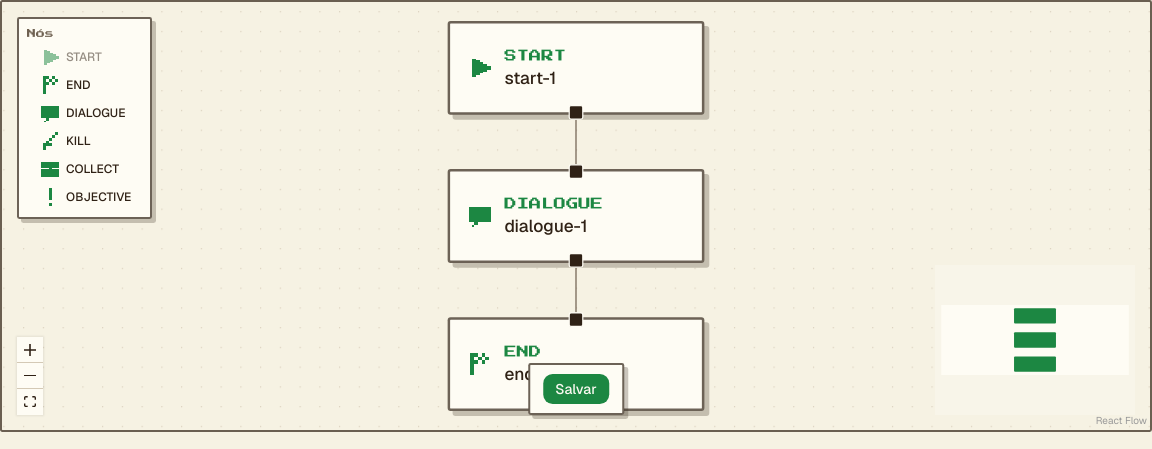
MissionCanvas editable › adds a node from the palette and marks the graph dirty
Click the button with test id "palette-OBJECTIVE": [85, 196] box [27,184,142,208]
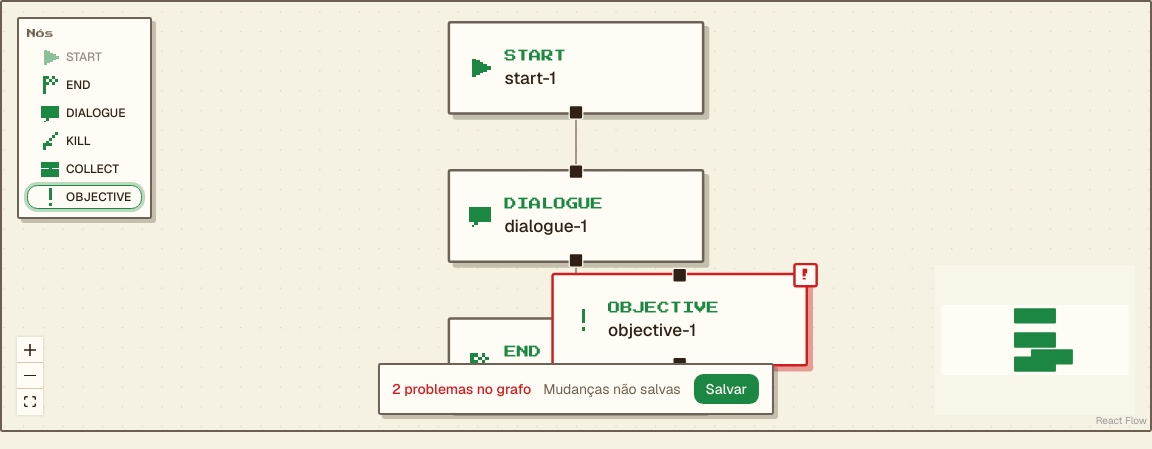
Now the number of elements with test id "quest-node" is 4, box [448,21,704,115]; [448,169,704,263]; [448,317,704,411]; [551,273,808,367]
Now the text "Mudanças não salvas" is shown, box [543,379,680,399]
Now the text "2 problemas no grafo" is shown, box [392,379,531,399]
